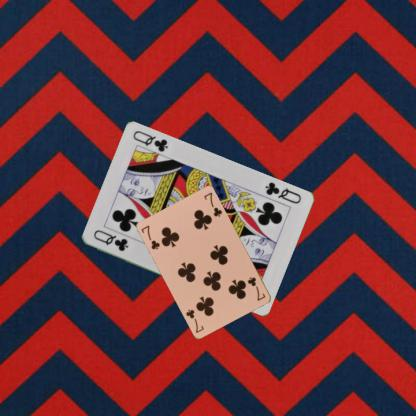7c: (139, 223, 161, 251), (245, 275, 267, 302)
Qc: (90, 227, 130, 253), (262, 180, 302, 206)
